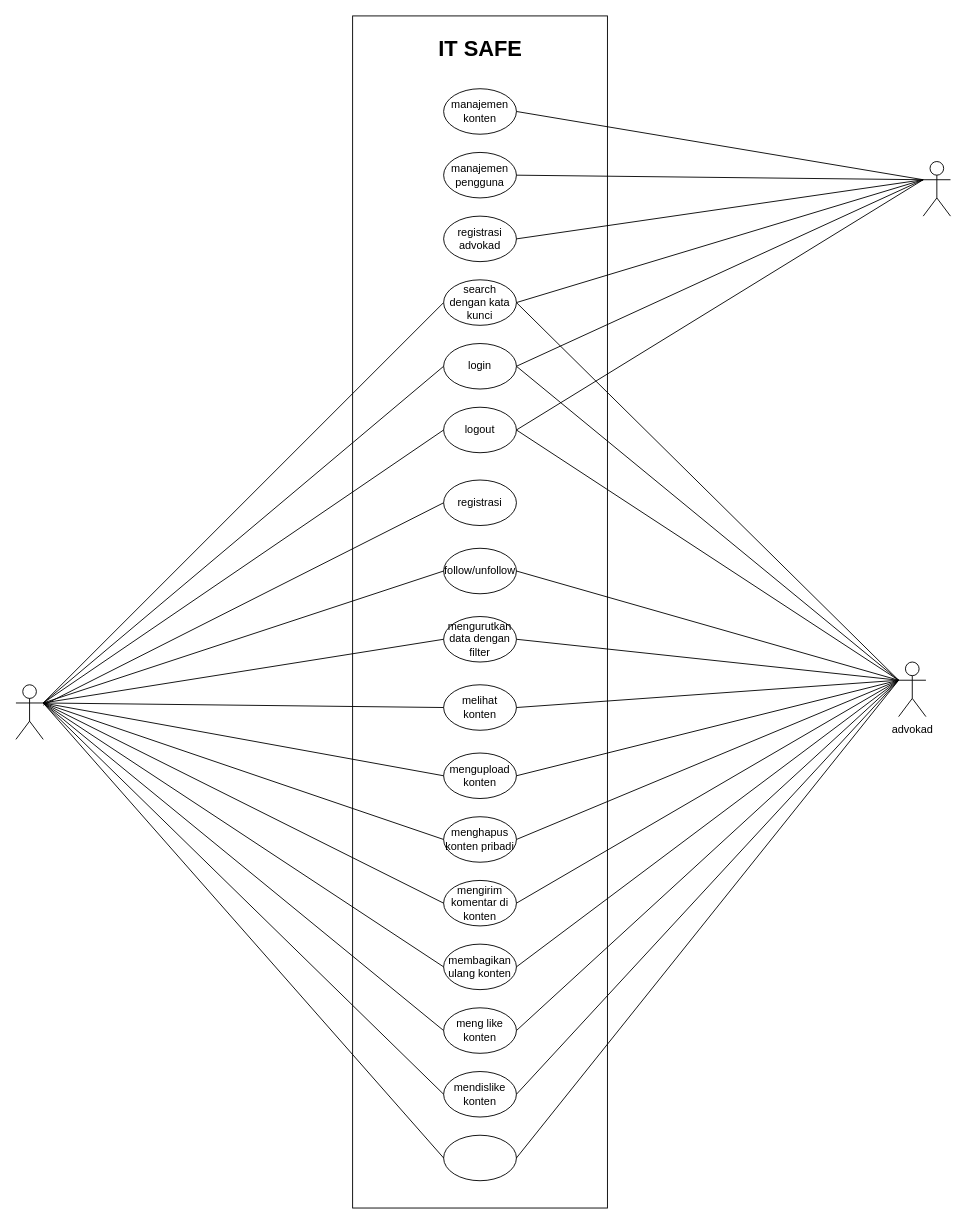
This 967x1224 diagram has some shape labels left out. Each missing label, with the box of its shape:
admin: (922, 161, 950, 216)
personal chat: (443, 1134, 516, 1181)
user: (15, 684, 43, 739)
